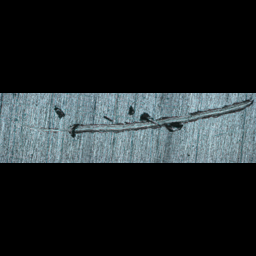d: (6, 96, 254, 139)
